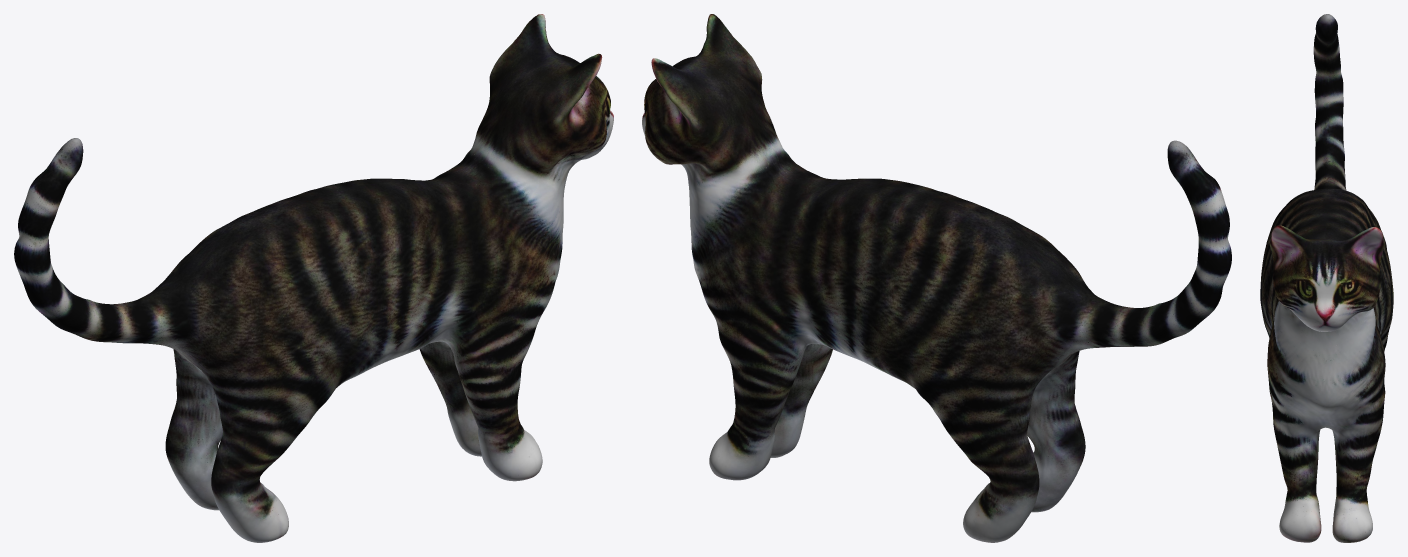
3 renders of one model, left to right at view 1: azimuth 30°, elevation 25°; view 2: azimuth 150°, elevation 25°; view 3: azimuth 270°, elevation 25°, orthographic. The views are drawn at different scales.
Visible parts, largest first — view 1: Object_2; view 2: Object_2; view 3: Object_2.
Boxes of the visible parts, bbox=[...] form: Object_2: bbox=[14, 14, 613, 542]; Object_2: bbox=[642, 14, 1231, 542]; Object_2: bbox=[1260, 14, 1393, 542].
Bounding box in the file's own units: 1 × 0.6924 × 0.2385.
1 material, 1 textured.
